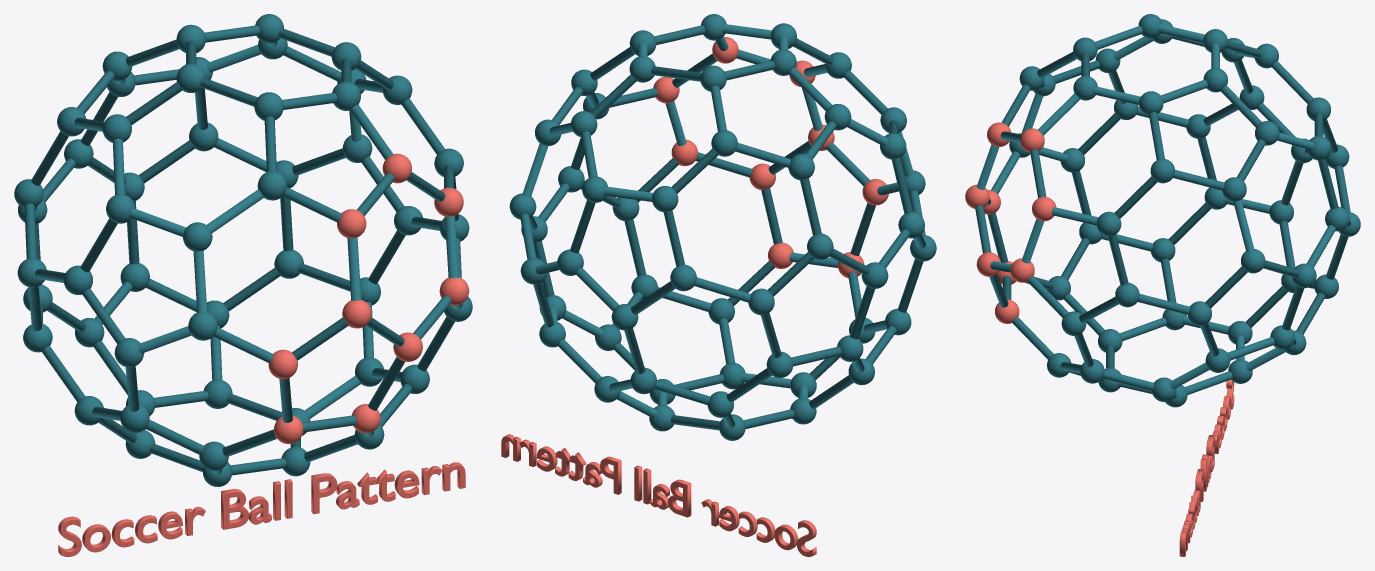
3 views of the same model, side by side, from view 1: azimuth 30°, elevation 25°; view 2: azimuth 150°, elevation 25°; view 3: azimuth 270°, elevation 25° (orthographic). The views are drawn at different scales.
Visible parts, largest first — view 1: soccerModel, Text; view 2: soccerModel, Text; view 3: soccerModel, Text.
Part boxes in pixels (x1,y1,x2,y2): soccerModel: (14,14,472,486); Text: (58,462,465,556); soccerModel: (509,14,936,440); Text: (501,434,816,556); soccerModel: (965,14,1360,407); Text: (1179,379,1234,556).
Size of the model in its own units: 7.87 by 8.79 by 7.43.
